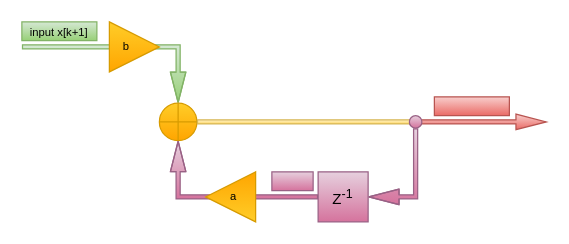
Image size: 569x244. Some labels were removed from this diagram. The shapes that lost their labels are listed below. From the top down, each one's centre as x and y in pixels, then its label:
point (471, 106): output y[k+1]
point (292, 181): y[k]
